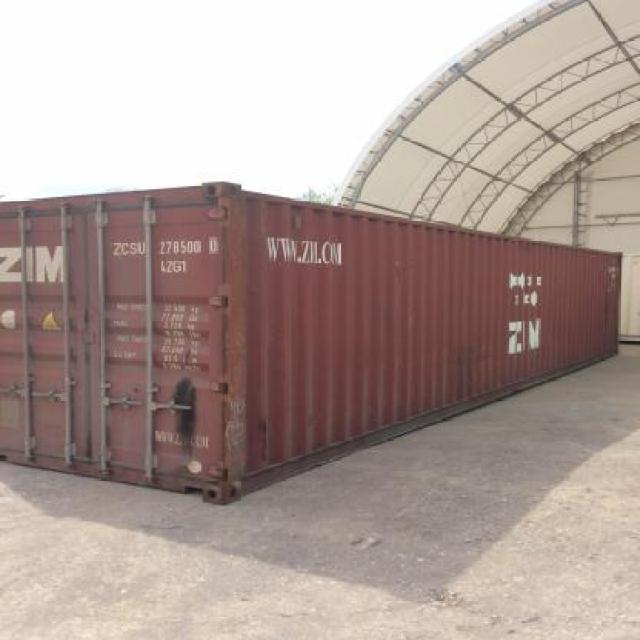ISO: (158, 258, 190, 274)
container_number: (111, 237, 223, 254)
